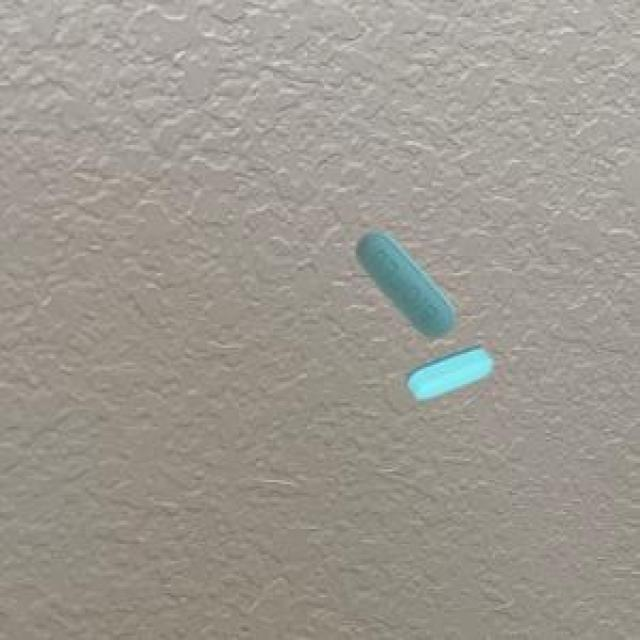Bioflu: (343, 224, 493, 345), (392, 345, 500, 402)
